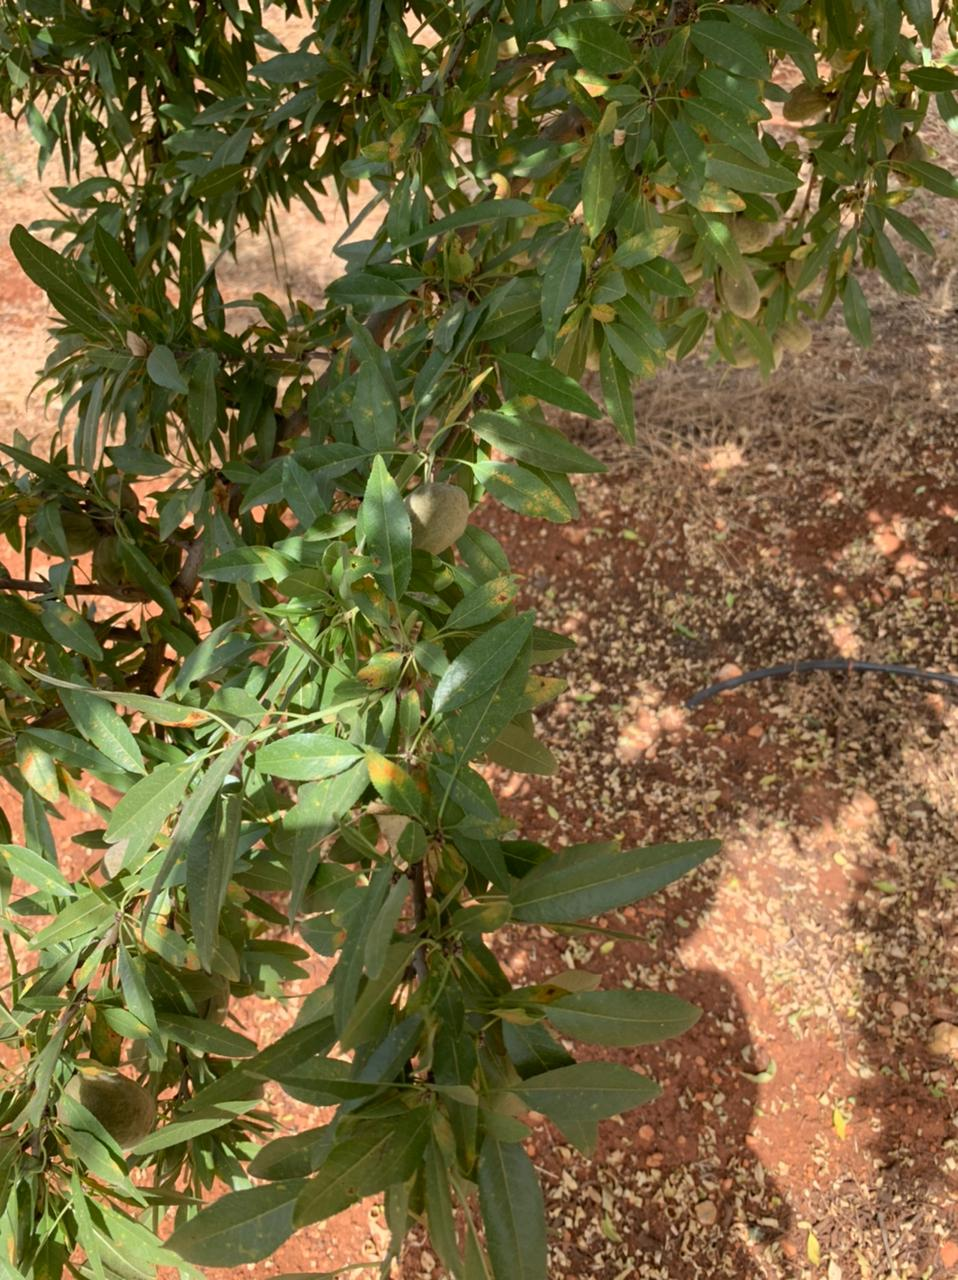polystigma: (354, 453, 416, 602), (244, 731, 367, 784), (440, 571, 527, 631), (363, 742, 423, 823), (12, 730, 58, 804)
